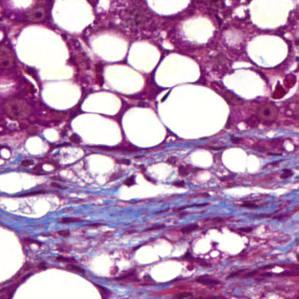steatosis: (157, 85, 231, 142), (83, 88, 123, 115), (130, 43, 162, 72)
